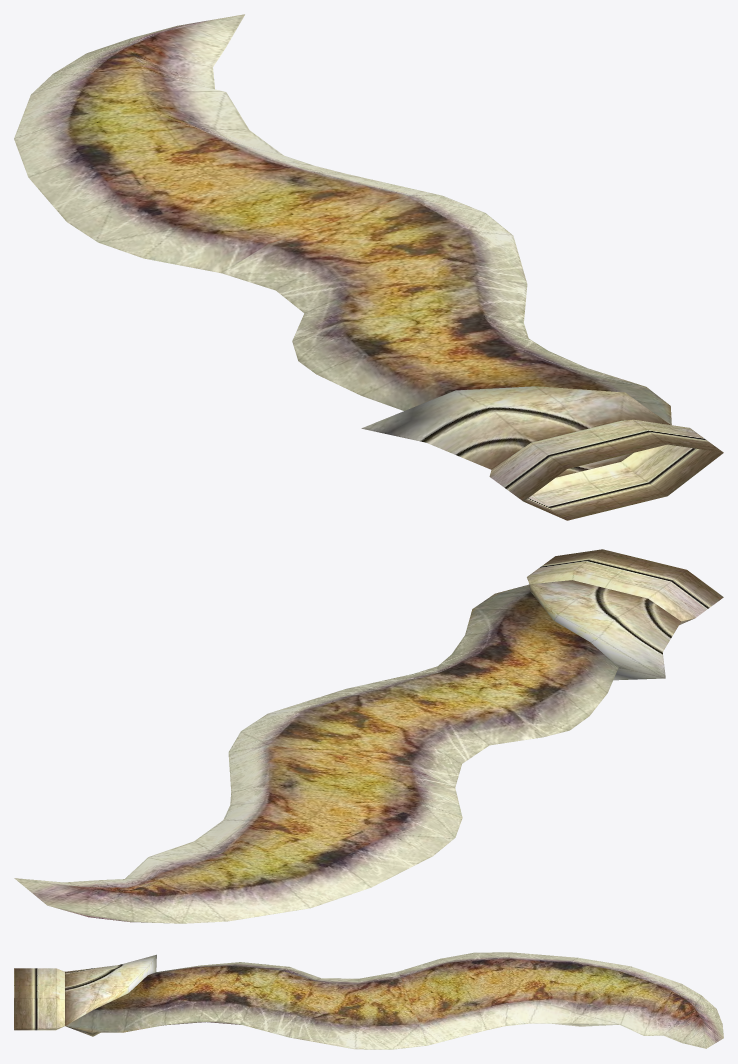
The model's file is sword_tokage_tokage.glb.
3 renders of one model, top to bottom at view 1: azimuth 30°, elevation 25°; view 2: azimuth 150°, elevation 25°; view 3: azimuth 270°, elevation 25°, orthographic. The views are drawn at different scales.
Size of the model in its own units: 0.1793 by 0.0262 by 0.528.
Materials: 1 (1 with a texture image).
